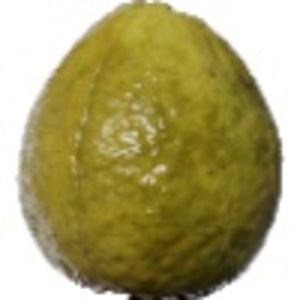goiaba: (12, 1, 286, 298)
